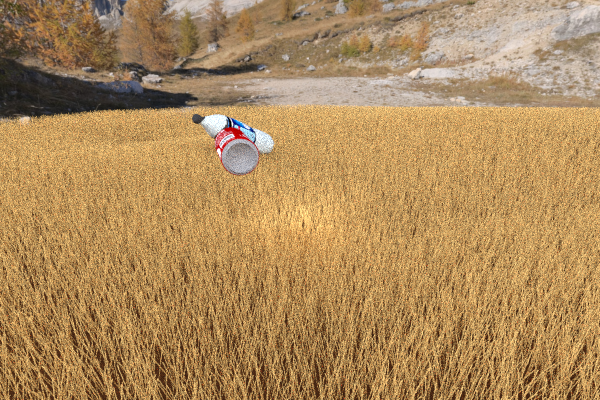Plastic Bottle: (192, 113, 274, 155), (214, 127, 259, 175), (517, 117, 586, 146)
